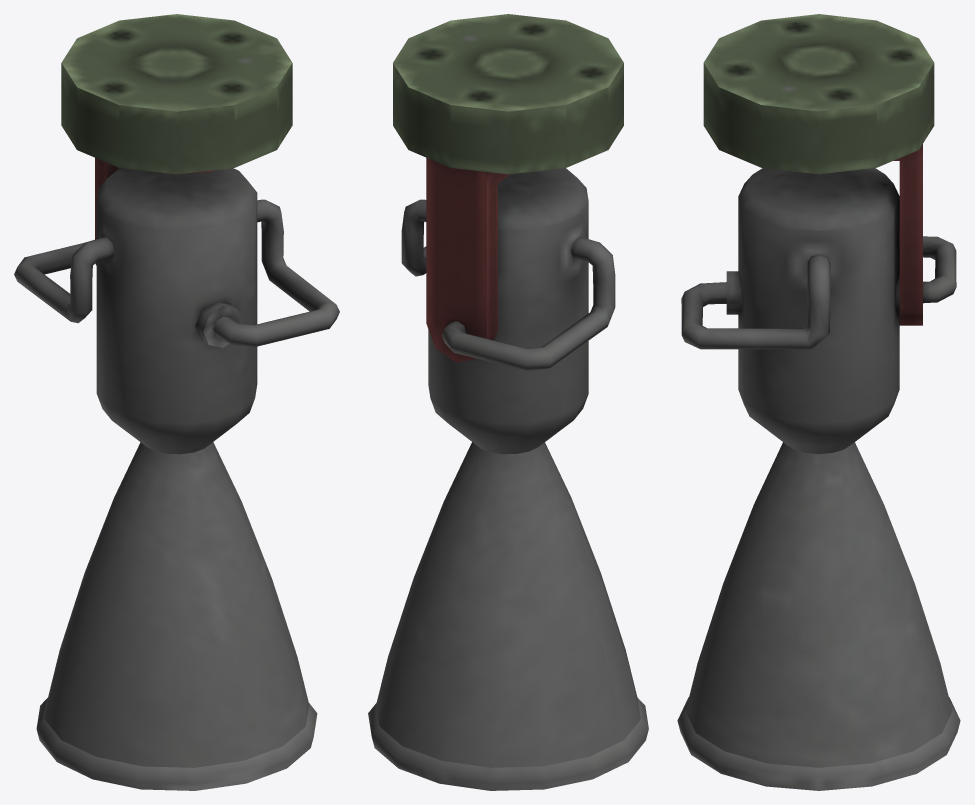
3 views of the same model, side by side, from view 1: azimuth 30°, elevation 25°; view 2: azimuth 150°, elevation 25°; view 3: azimuth 270°, elevation 25° (orthographic).
Visible parts, largest first — view 1: engine, base; view 2: engine, base; view 3: engine, base.
Part boxes in pixels (box(x1,y1,x2,y2)): engine: box(14, 168, 339, 790); base: box(61, 14, 292, 265); engine: box(368, 168, 648, 790); base: box(393, 14, 623, 362); engine: box(677, 168, 960, 790); base: box(703, 14, 934, 325).
Bounding box in the file's own units: 0.1533 × 0.4 × 0.1533.
1 material, 1 textured.
